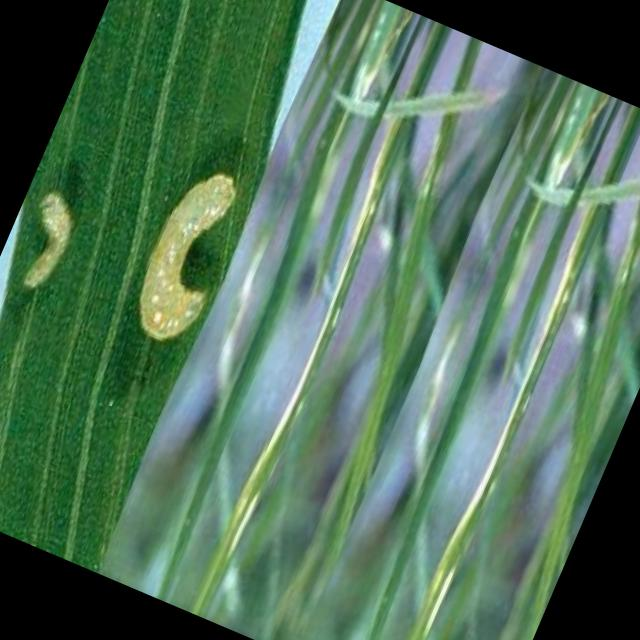whorl-maggot: (108, 156, 255, 361), (0, 176, 93, 303)
